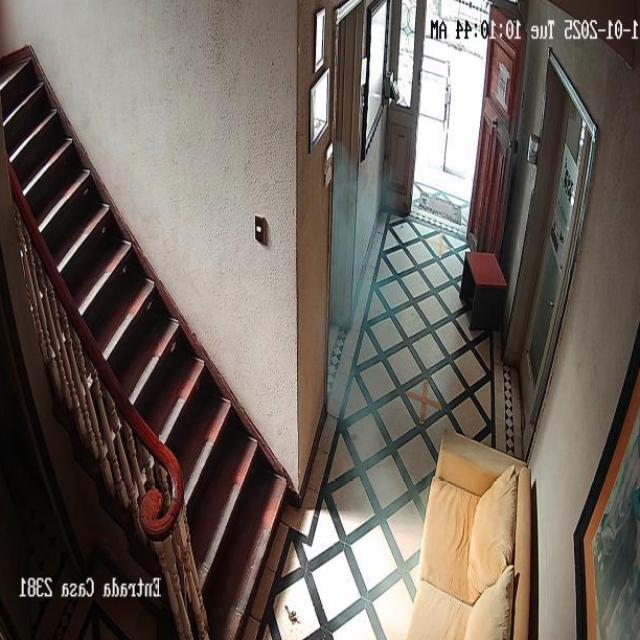fire: (329, 134, 459, 640)
